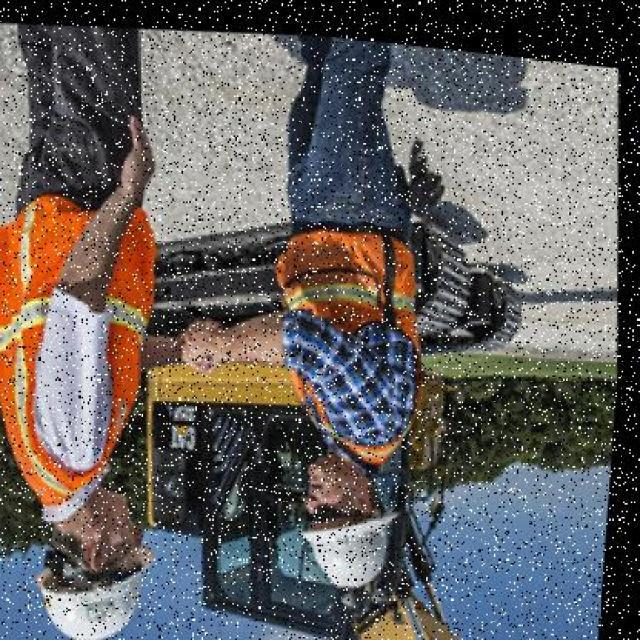helmet: (31, 520, 177, 638), (294, 475, 417, 591)
vest: (0, 180, 190, 520), (254, 205, 436, 466)
